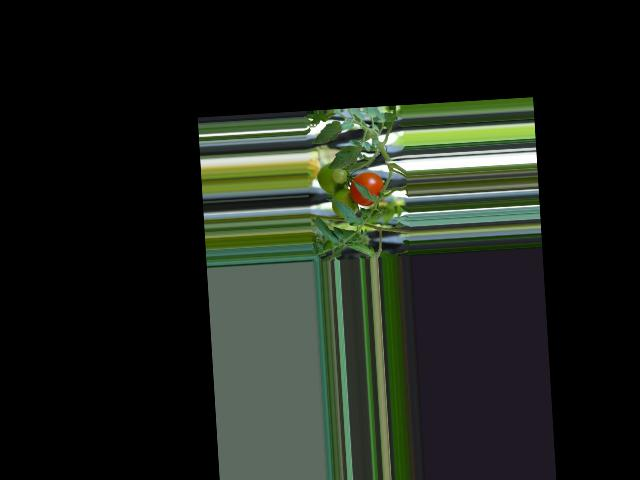tomato: (349, 170, 384, 206)
